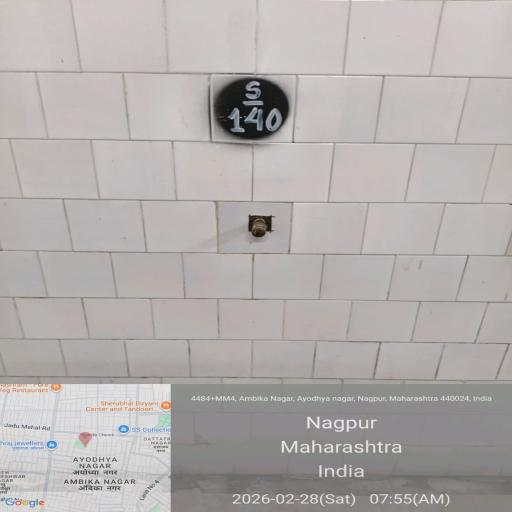clean_floor: (28, 122, 510, 436)
